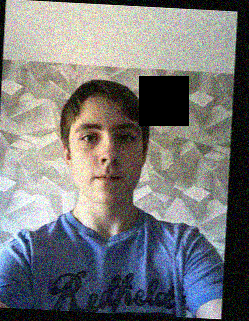without_mask: (70, 121, 145, 206)
